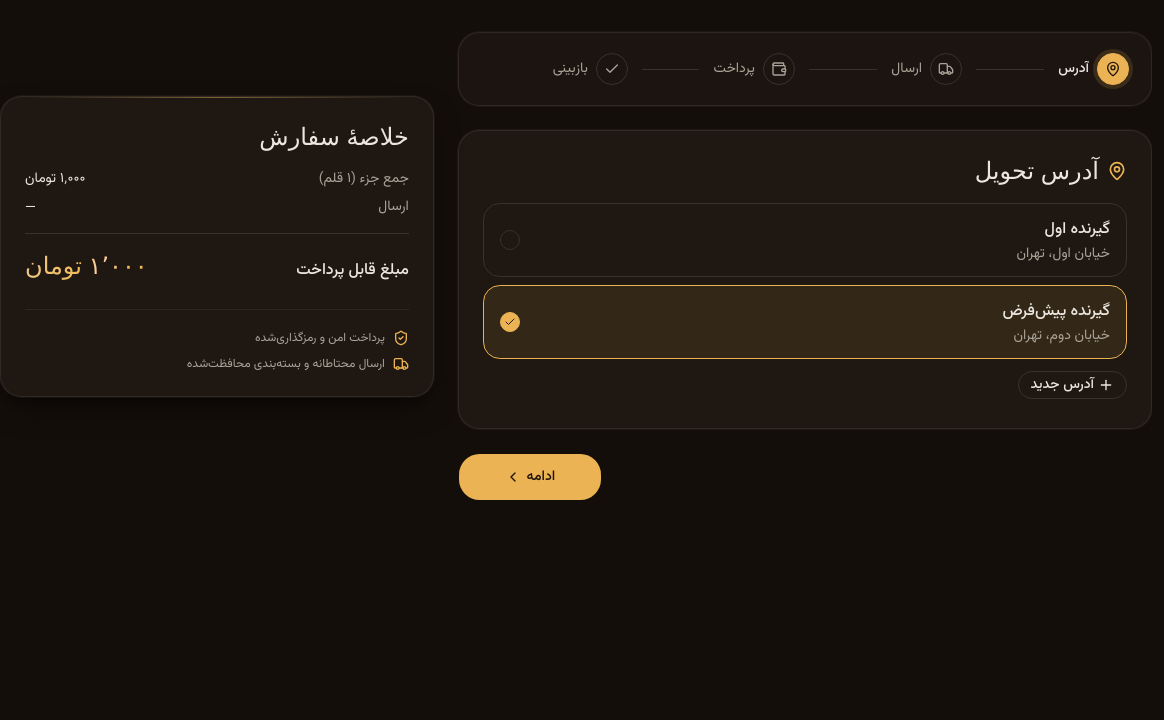
Scenario: checkout state logic › shows the balance without a shortfall warning when the wallet covers it
Click the button "ادامه": (530, 477) [458,453,602,501]
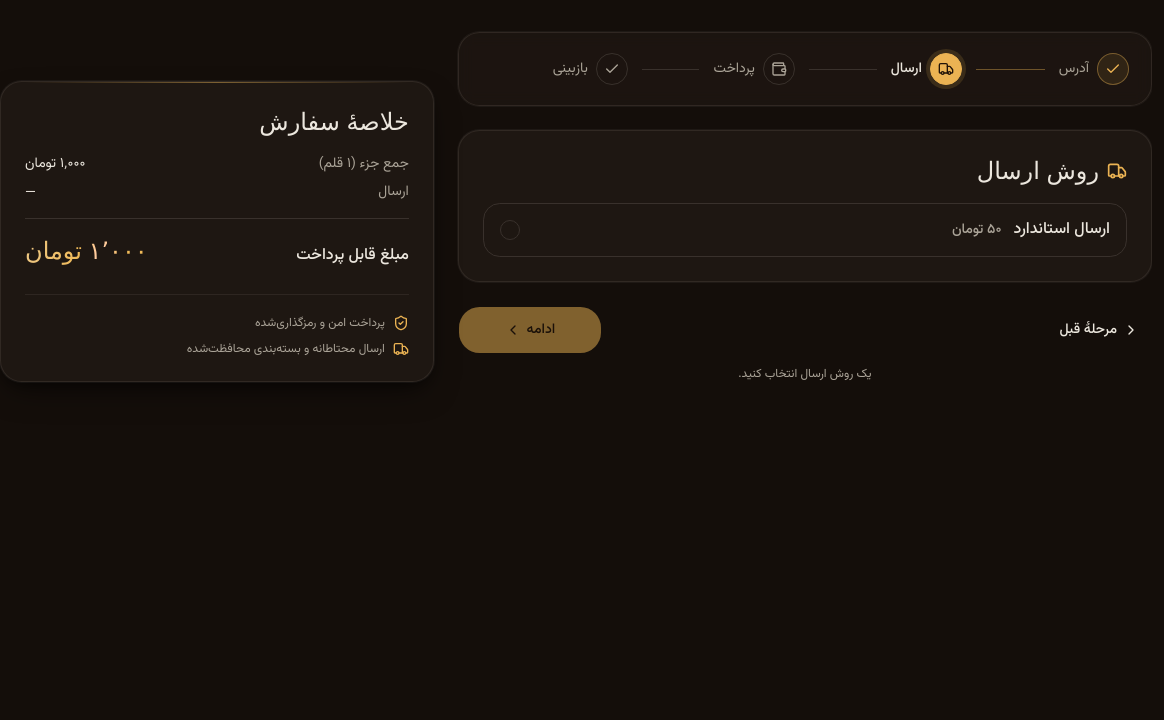
Click the radio button labelled "ارسال استاندارد ۵۰ تومان": (1062, 230) [483,203,1127,257]
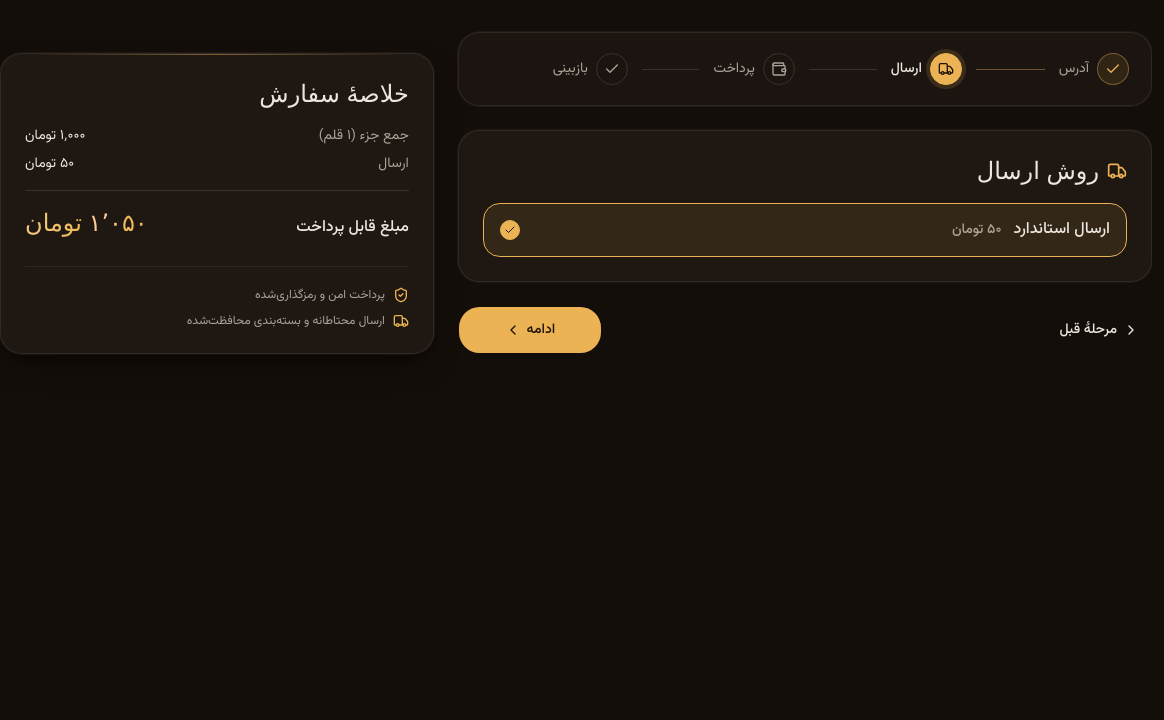
Click the button "ادامه": (530, 330) [458,306,602,354]
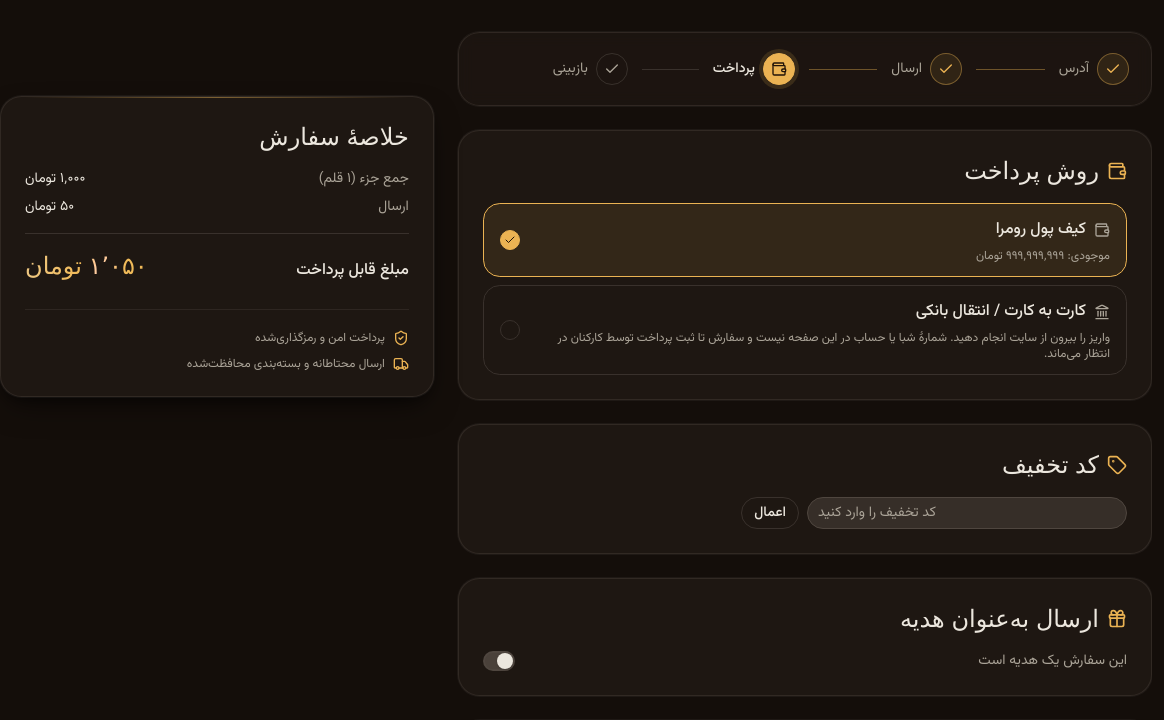
Result: the text "موجودی: ۹۹۹٬۹۹۹٬۹۹۹ تومان" is shown at [976,248,1110,264]
